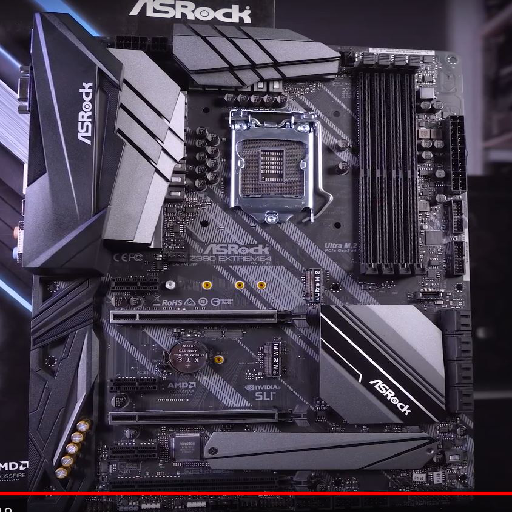CPU: (230, 108, 314, 225)
GPU: (109, 304, 309, 331), (108, 403, 312, 429)
MOTHERBOARD: (30, 33, 475, 507)
RAM: (355, 53, 428, 281)
SSD: (302, 267, 326, 306), (261, 340, 282, 378)
